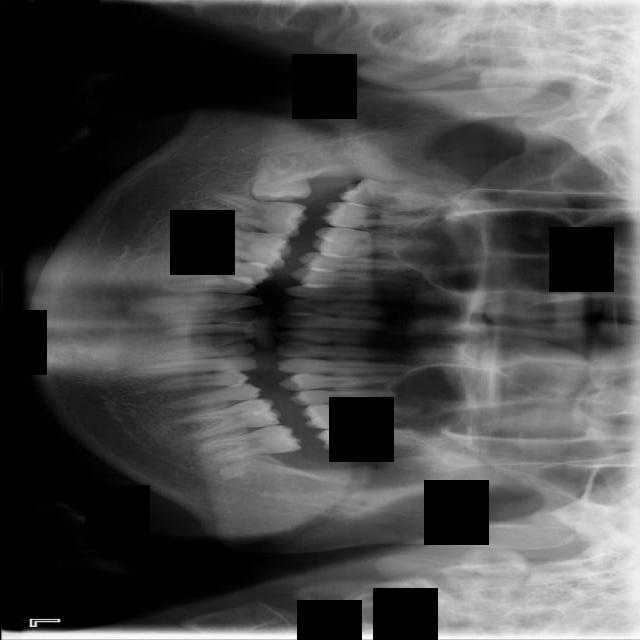3M ESPE Implant: (336, 177, 453, 212)
52: (230, 397, 281, 428)
73: (21, 621, 30, 630)
BioHorizons Implant: (313, 428, 427, 451)
Blue Sky Bio Implant: (193, 421, 303, 468)
Caries: (318, 201, 436, 230)
Implant: (197, 188, 310, 241)
Keystone Dental Implant: (250, 151, 313, 204)
